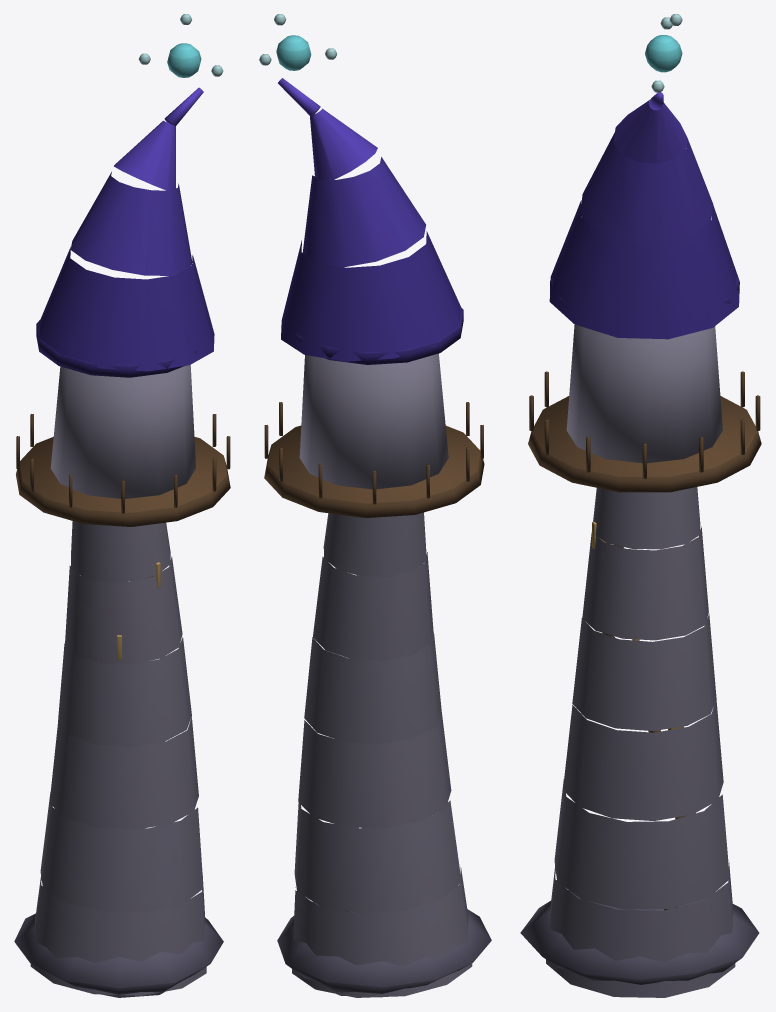
The model's file is wizard_tower.glb.
The picture shows the model from 3 angles, left to right: view 1: azimuth 30°, elevation 25°; view 2: azimuth 150°, elevation 25°; view 3: azimuth 270°, elevation 25°; orthographic projection. The views are drawn at different scales.
Parts seen in each view (by area): view 1: wizard_tower; view 2: wizard_tower; view 3: wizard_tower.
Boxes of the visible parts, x1,y1,x2,y2 form: wizard_tower: (14, 14, 230, 997); wizard_tower: (259, 14, 491, 997); wizard_tower: (520, 14, 761, 997).
Size of the model in its own units: 1.31 by 5.82 by 1.28.
